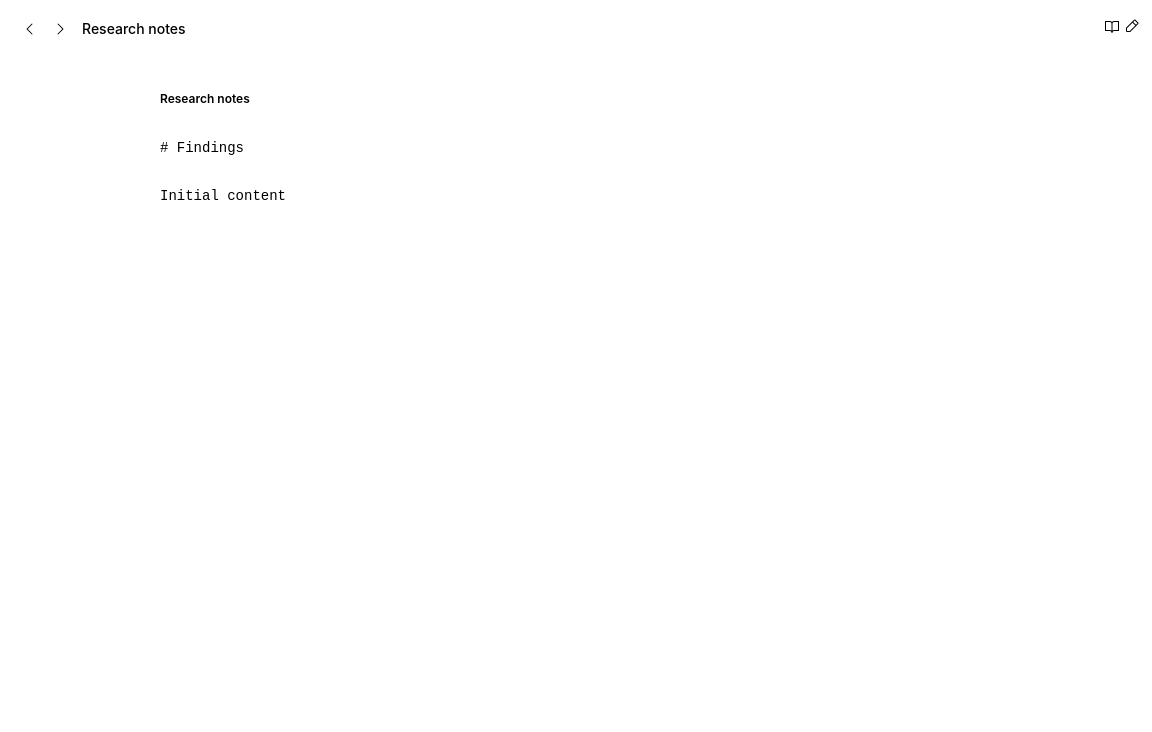
it: WorkspaceMarkdownView › keeps the draft open when returning to reading mode cannot save it
The image size is (1152, 732).
Replace the text in the text box named "workspace.noteContentLabel" with "Unsaved content" at coordinates (576, 338), box [148,128,1004,548]
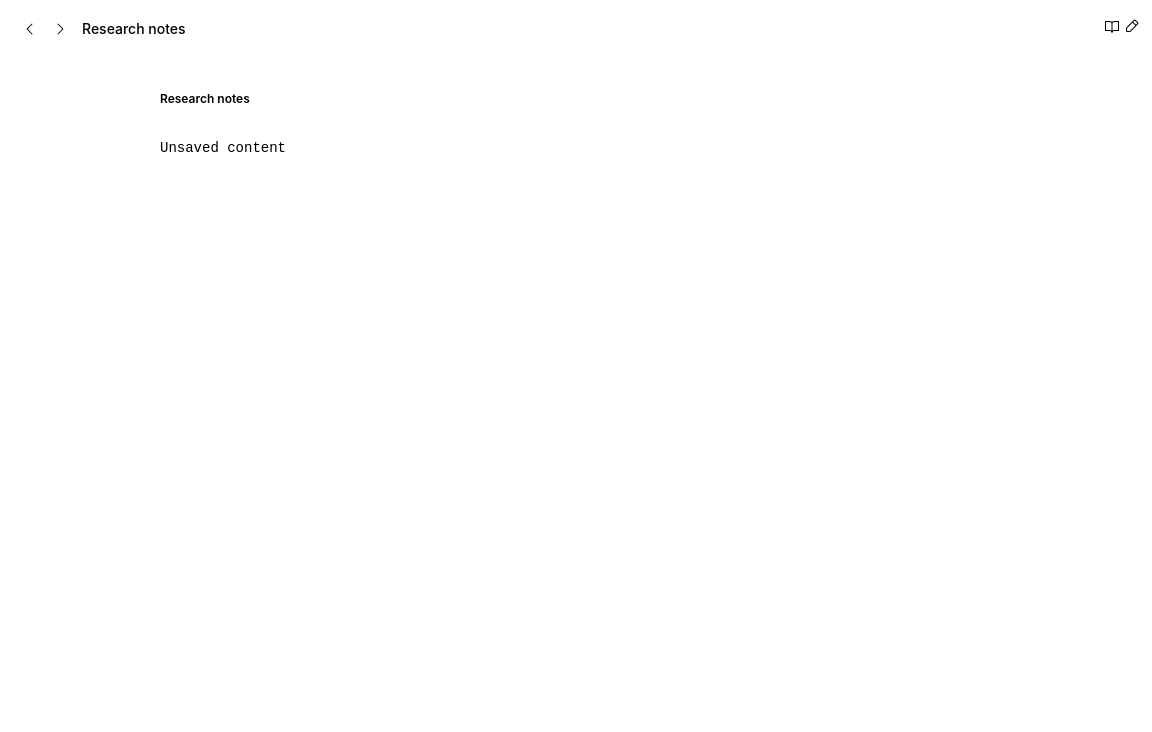
Click the button named "workspace.markdownRead" at coordinates (1112, 26), box [1104,18,1120,34]
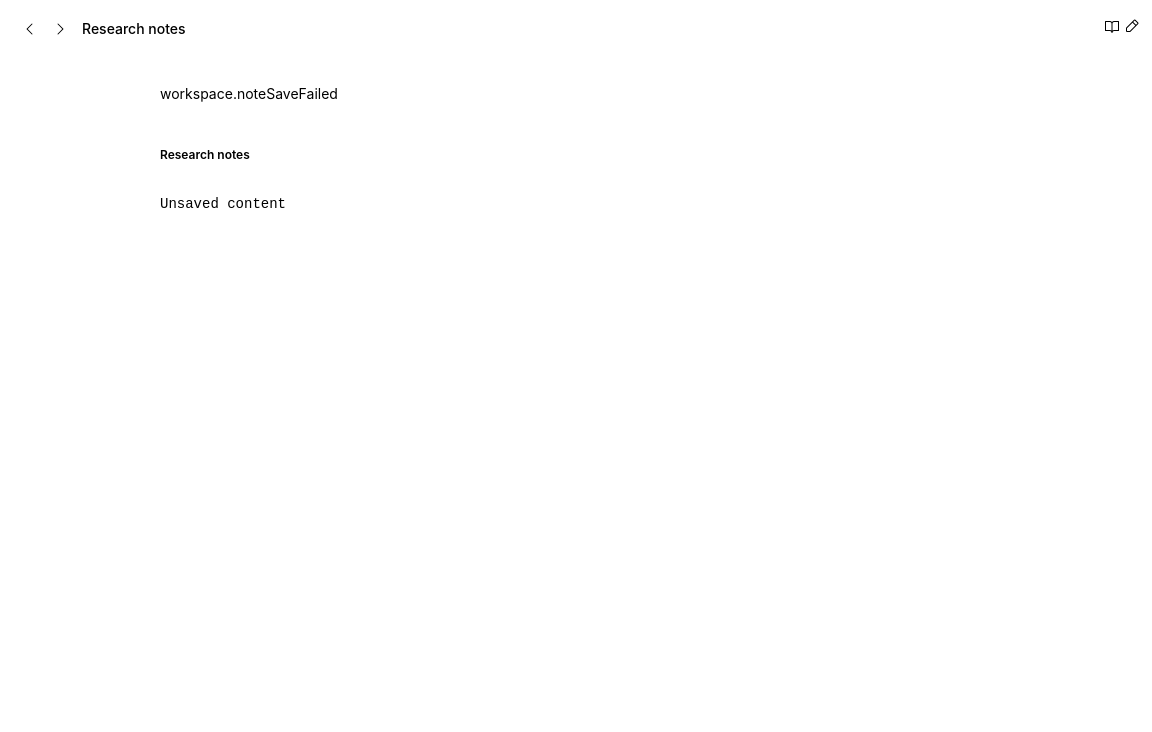
expect the message reads "workspace.noteSaveFailed": met, box [160,85,338,102]
